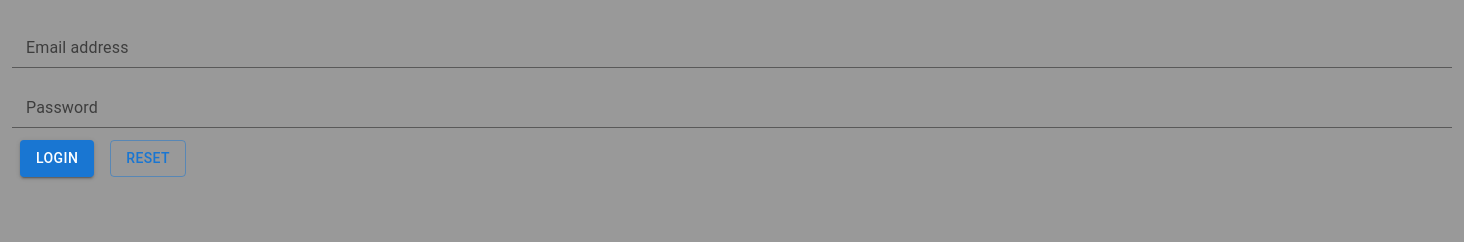
Test case: Login › schema validation › should display email required error
Step 1. Click the button "Login" → (57, 158), box x1=20 y1=140 x2=94 y2=176
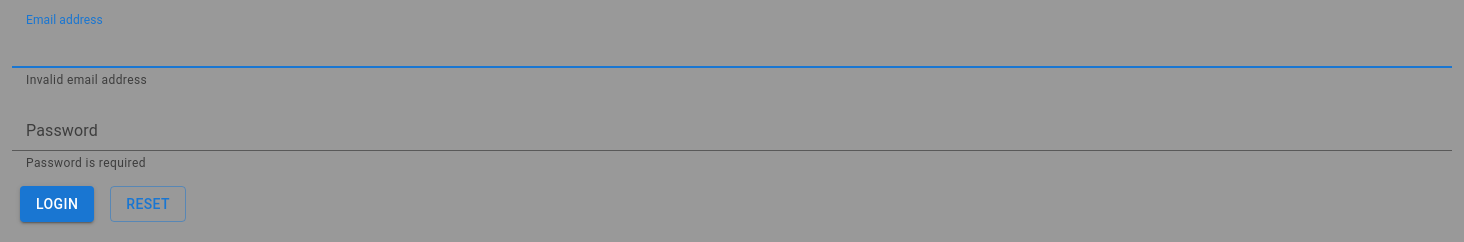
Expected: the text "Invalid email address" is shown, x1=26 y1=73 x2=147 y2=87
